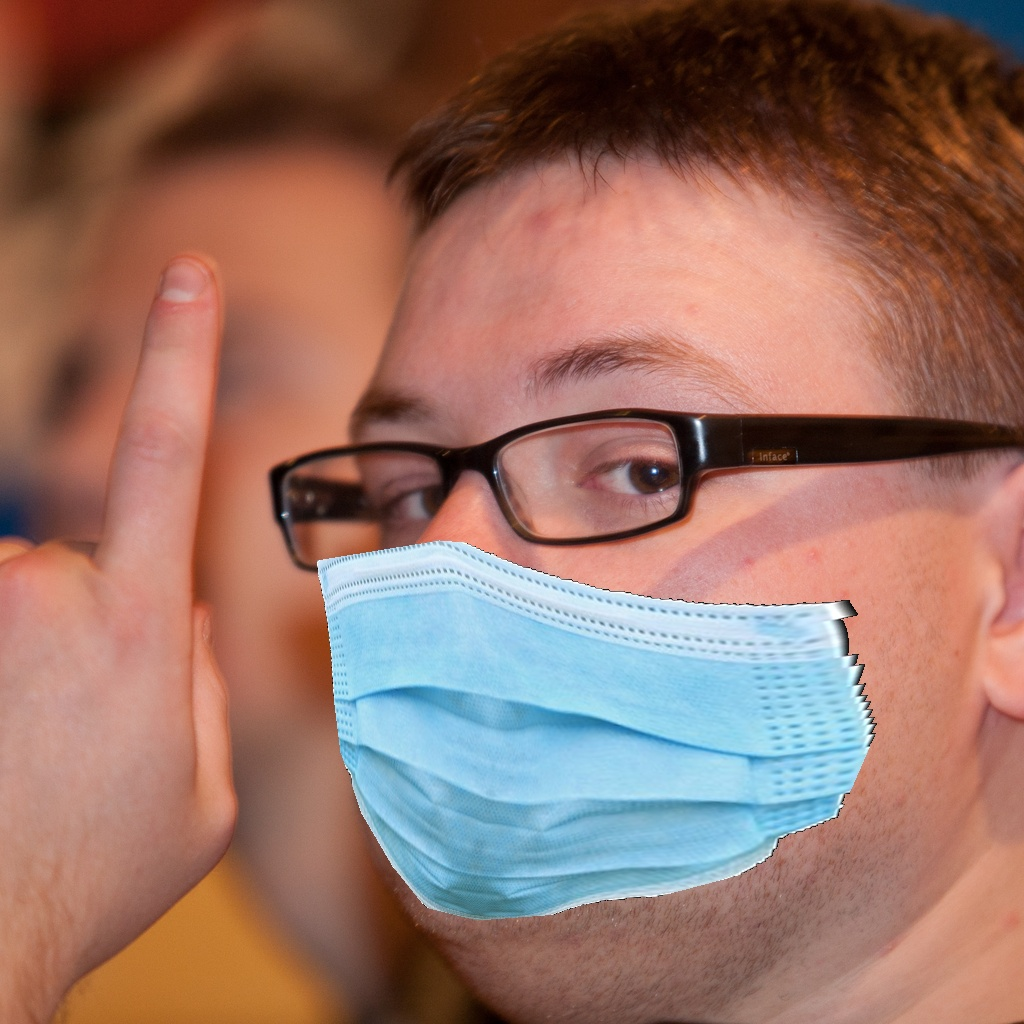Mask: (317, 357, 893, 922)
